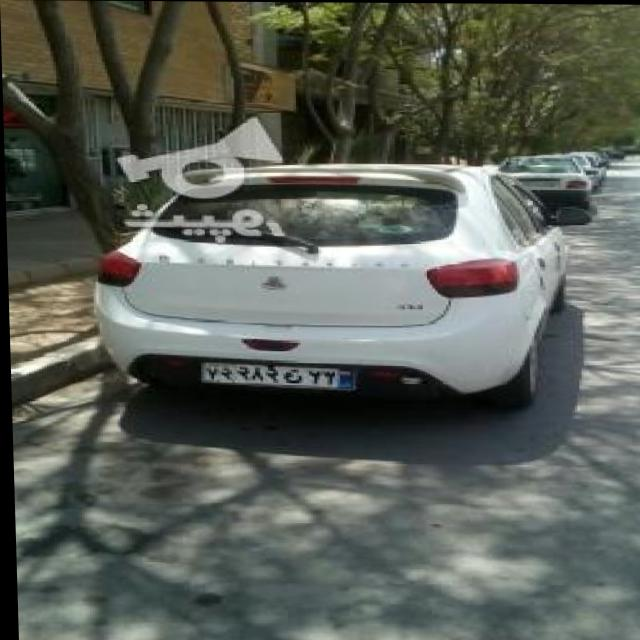licence: (198, 355, 359, 391)
